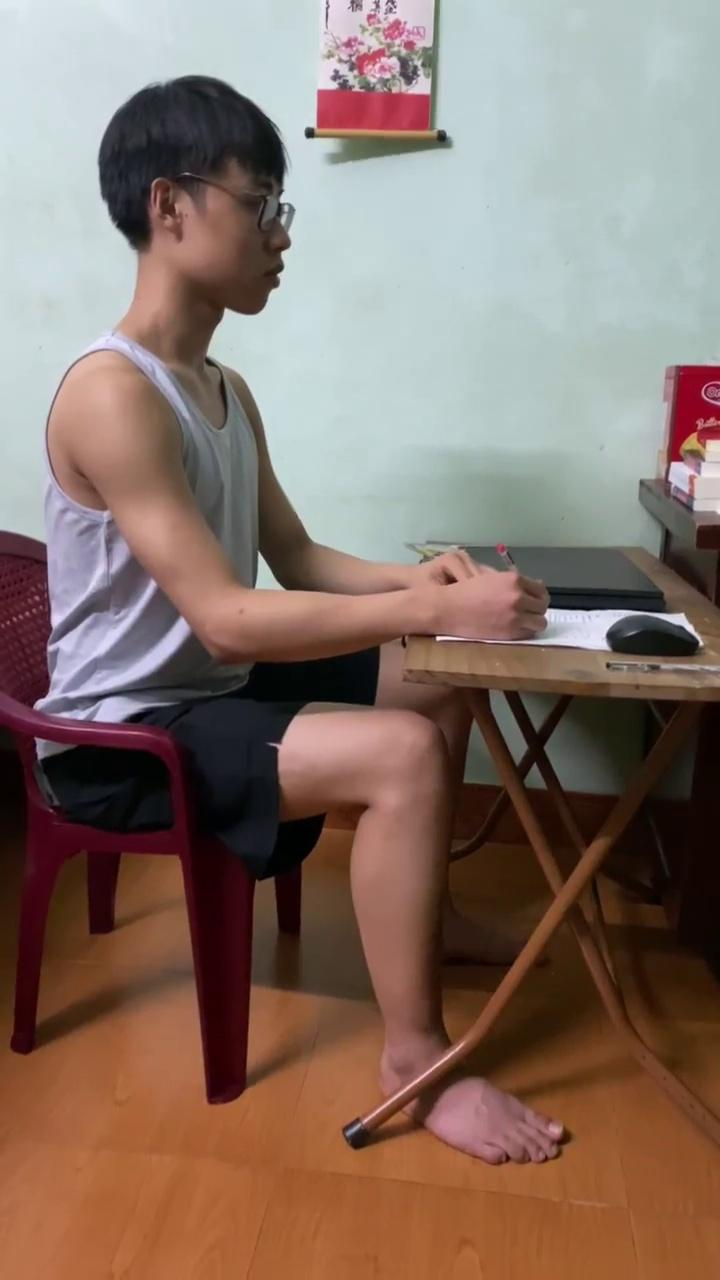GoodPosture: (40, 76, 547, 1093)
